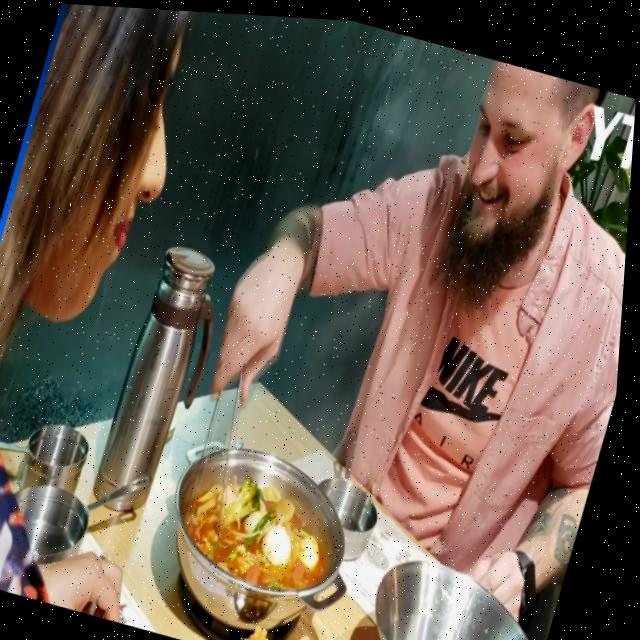eating-person: (138, 8, 640, 640)
